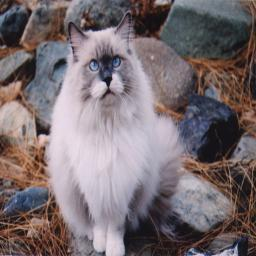catnose: (102, 74, 113, 89)
